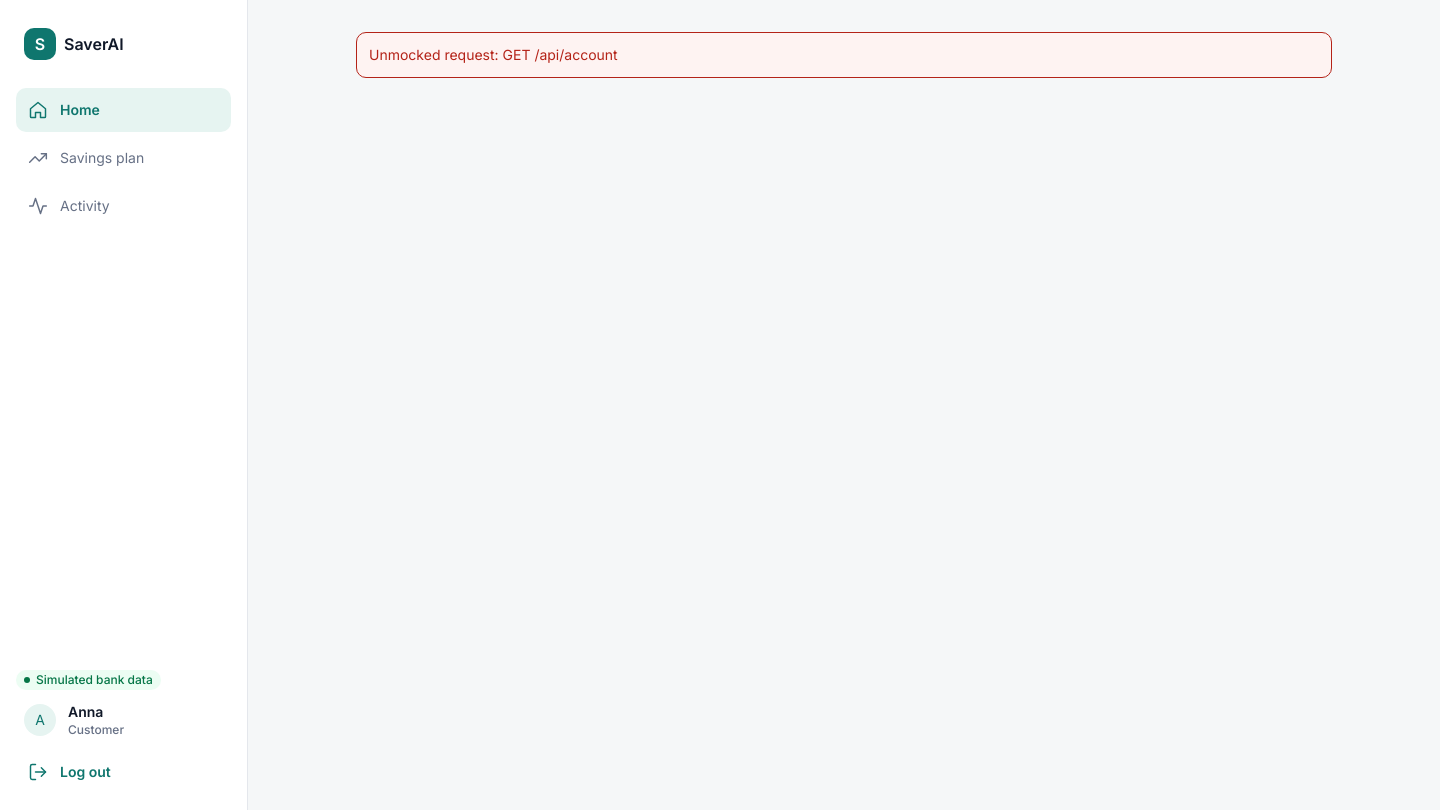
Test: logging out returns to login
Click the button "Log out": (124, 772) [16,750,231,794]
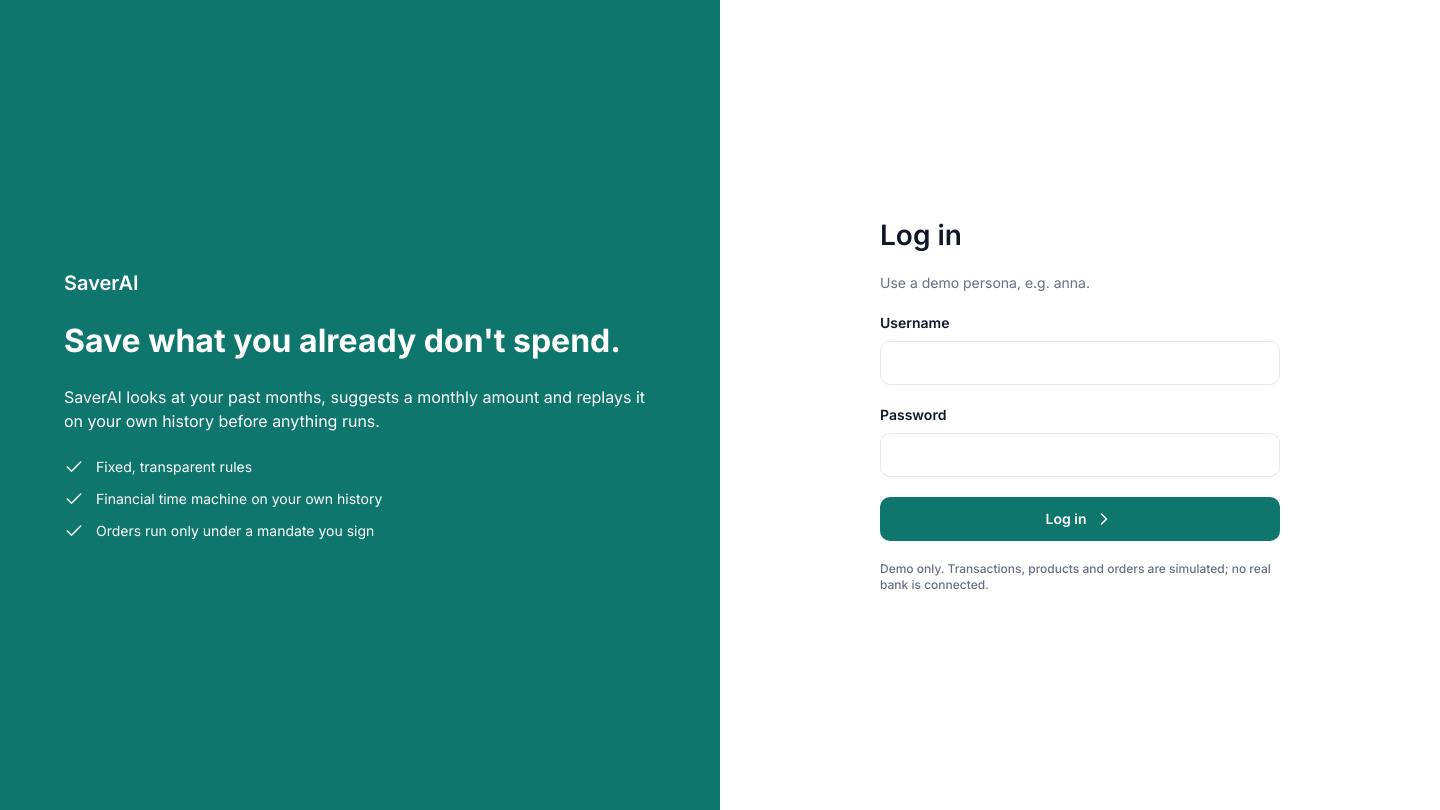
Check: the heading "Log in" is shown, box [880,218,962,252]
